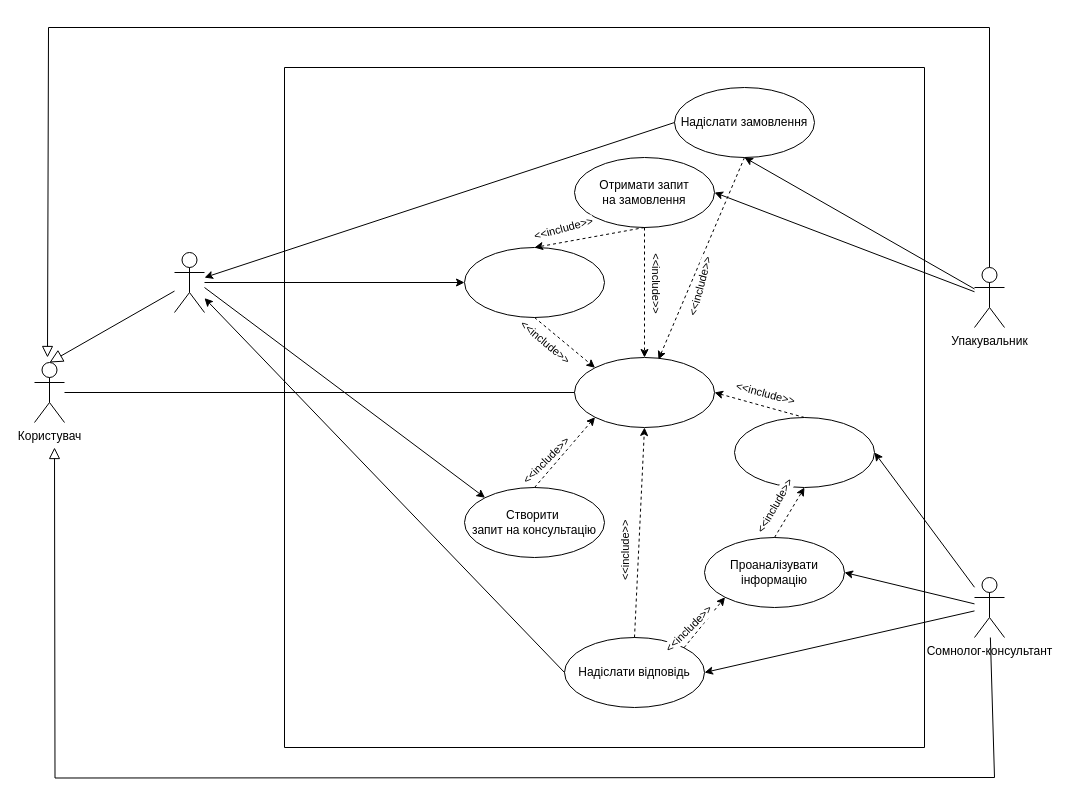
Some shapes in this 1069 by 807 pixel diagram are drawn without their labels. Each missing label, with the box of its shape:
Cтудент-споживач: (174, 252, 204, 312)
Авторизувати користувача: (574, 356, 714, 428)
Отримати запит на консультацію: (734, 416, 874, 488)
Створити замовлення: (464, 246, 604, 318)
